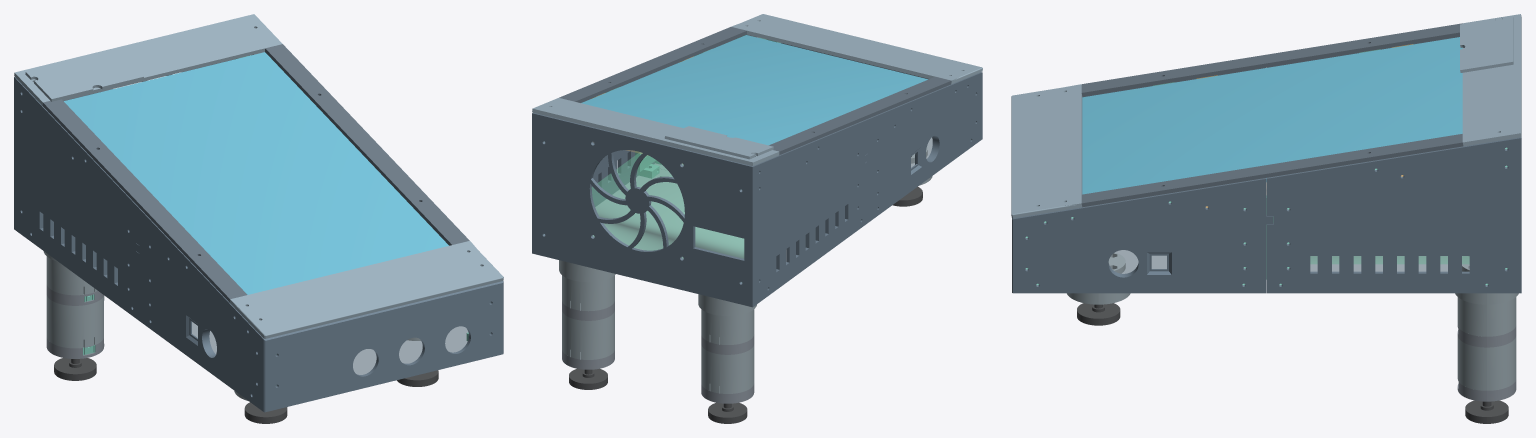
File: cabinet.glb
3 views of the same model, side by side, from view 1: azimuth 30°, elevation 25°; view 2: azimuth 150°, elevation 25°; view 3: azimuth 270°, elevation 25° (orthographic). The views are drawn at different scales.
Parts seen in each view (by area): view 1: REFERENCE_Monitor, left_rear_wall, front_button_panel, left_front_wall, front_cable_lid, rear_control_deck, bezel_right_a1_a2, bezel_left_one_piece, control_hatch, foot_m8_terminal_sleeve_left_rear_55mm, bottom_front, foot_lock_sleeve_left_rear_1_45mm (+4 smaller); view 2: rear_vent_panel, REFERENCE_Monitor, left_rear_wall, left_front_wall, front_cable_lid, REFERENCE_Dell_3050, bottom_rear, rear_control_deck, bezel_right_a1_a2, bezel_left_one_piece, foot_m8_terminal_sleeve_left_rear_55mm, foot_m8_terminal_sleeve_right_rear_55mm (+12 smaller); view 3: REFERENCE_Monitor, right_rear_wall, right_front_wall, front_cable_lid, bezel_right_a1_a2, bezel_left_one_piece, rear_control_deck, control_hatch, foot_m8_terminal_sleeve_right_rear_55mm, foot_lock_sleeve_right_rear_1_45mm, bottom_rear, REFERENCE_swivel_rubber_pad_right_rear (+7 smaller).
Boxes of the visible parts, left/top/right/bottom form: REFERENCE_Monitor: left=64, top=52, right=448, bottom=294; left_rear_wall: left=14, top=77, right=139, bottom=320; front_button_panel: left=267, top=282, right=500, bottom=411; left_front_wall: left=136, top=208, right=267, bottom=412; front_cable_lid: left=229, top=241, right=503, bottom=338; rear_control_deck: left=14, top=14, right=282, bottom=105; bezel_right_a1_a2: left=265, top=44, right=469, bottom=245; bezel_left_one_piece: left=42, top=99, right=247, bottom=302; control_hatch: left=25, top=49, right=143, bottom=101; foot_m8_terminal_sleeve_left_rear_55mm: left=46, top=295, right=104, bottom=348; bottom_front: left=192, top=322, right=468, bottom=374; foot_lock_sleeve_left_rear_1_45mm: left=46, top=256, right=97, bottom=295; rear_vent_panel: left=535, top=113, right=750, bottom=306; REFERENCE_Monitor: left=581, top=35, right=928, bottom=145; left_rear_wall: left=749, top=119, right=867, bottom=307; left_front_wall: left=865, top=72, right=982, bottom=222; front_cable_lid: left=731, top=14, right=982, bottom=84; REFERENCE_Dell_3050: left=591, top=152, right=744, bottom=258; bottom_rear: left=595, top=169, right=786, bottom=261; rear_control_deck: left=532, top=98, right=779, bottom=165; bezel_right_a1_a2: left=559, top=27, right=746, bottom=102; bezel_left_one_piece: left=769, top=76, right=951, bottom=155; foot_m8_terminal_sleeve_left_rear_55mm: left=701, top=344, right=754, bottom=393; foot_m8_terminal_sleeve_right_rear_55mm: left=562, top=311, right=614, bottom=359; REFERENCE_Monitor: left=1082, top=37, right=1462, bottom=194; right_rear_wall: left=1267, top=137, right=1521, bottom=293; right_front_wall: left=1012, top=178, right=1273, bottom=293; front_cable_lid: left=1011, top=84, right=1082, bottom=218; bezel_right_a1_a2: left=1081, top=134, right=1463, bottom=207; bezel_left_one_piece: left=1081, top=23, right=1462, bottom=96; rear_control_deck: left=1462, top=14, right=1521, bottom=146; control_hatch: left=1460, top=16, right=1513, bottom=72; foot_m8_terminal_sleeve_right_rear_55mm: left=1457, top=336, right=1516, bottom=390; foot_lock_sleeve_right_rear_1_45mm: left=1457, top=297, right=1516, bottom=336; bottom_rear: left=1310, top=256, right=1462, bottom=271; REFERENCE_swivel_rubber_pad_right_rear: left=1465, top=400, right=1508, bottom=423.
Bounding box in the file's own units: 0.26 × 0.3106 × 0.4705.
